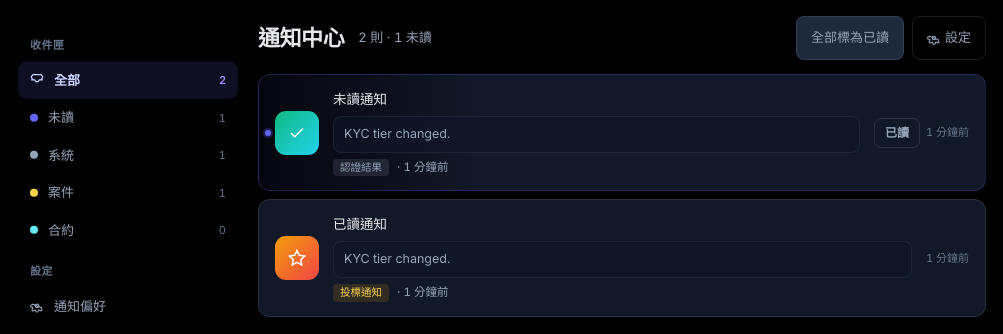
it: NotificationsPage › (interaction-1) 未讀 tab shows only unread items
Click the button with aria-label "篩選：未讀" at x=128, y=118, box 18,99 -> 238,136
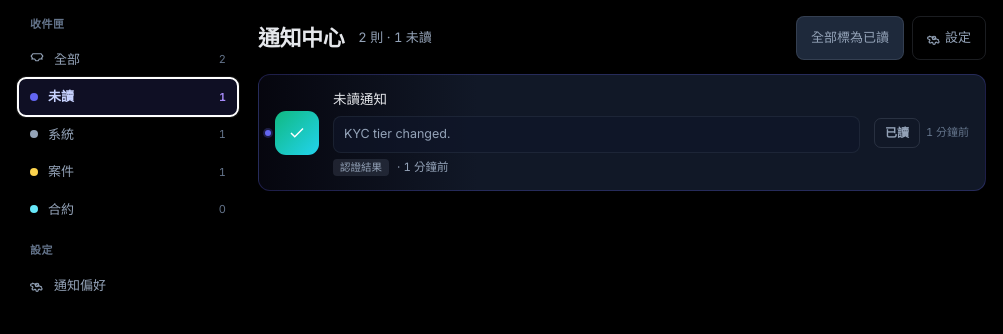
Expected: the text "未讀通知" is shown, 333,91 -> 387,107
Now the text "已讀通知" is gone
